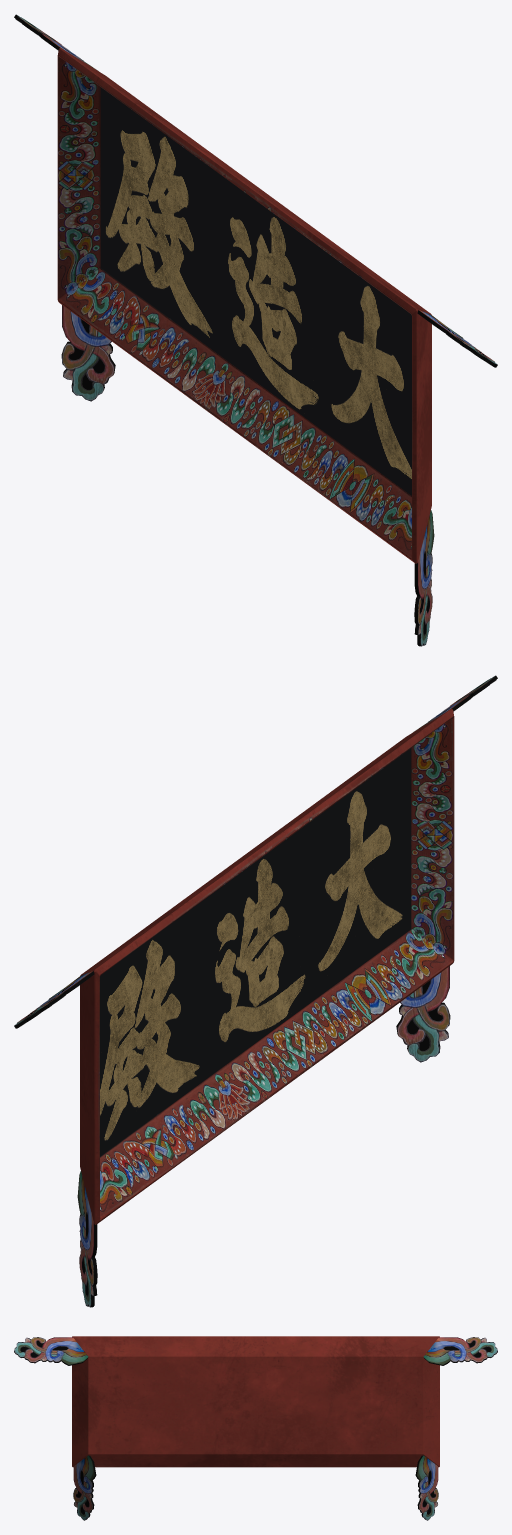
Rendered from SM_Stela04B.fbx.
3 renders of one model, top to bottom at view 1: azimuth 30°, elevation 25°; view 2: azimuth 150°, elevation 25°; view 3: azimuth 270°, elevation 25°, orthographic. The views are drawn at different scales.
Parts seen in each view (by area): view 1: SM_Stela04B; view 2: SM_Stela04B; view 3: SM_Stela04B.
Boxes of the visible parts, <box> form: SM_Stela04B: <box>14,14,497,646</box>; SM_Stela04B: <box>14,675,497,1307</box>; SM_Stela04B: <box>14,1336,497,1520</box>.
Bounding box in the file's own units: 17.86 × 320 × 131.
